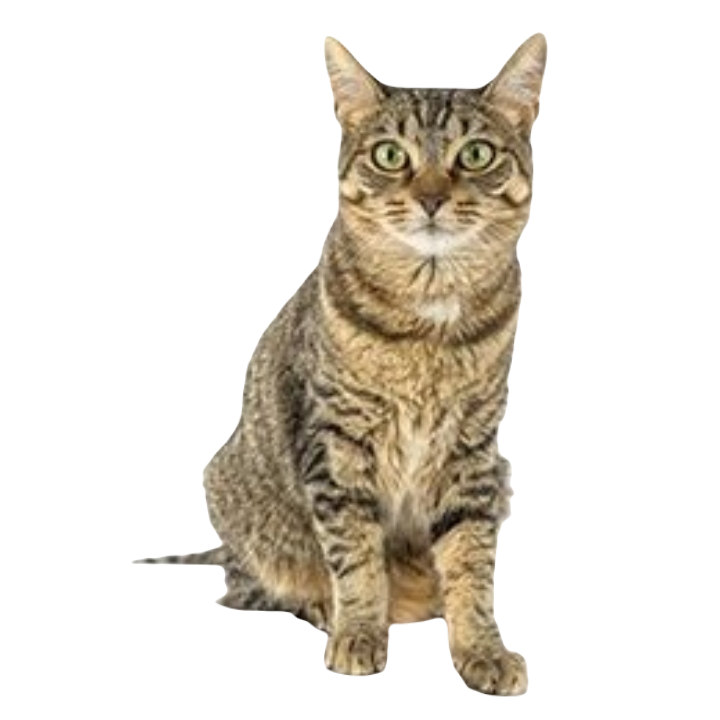Cat: (127, 23, 544, 701)
